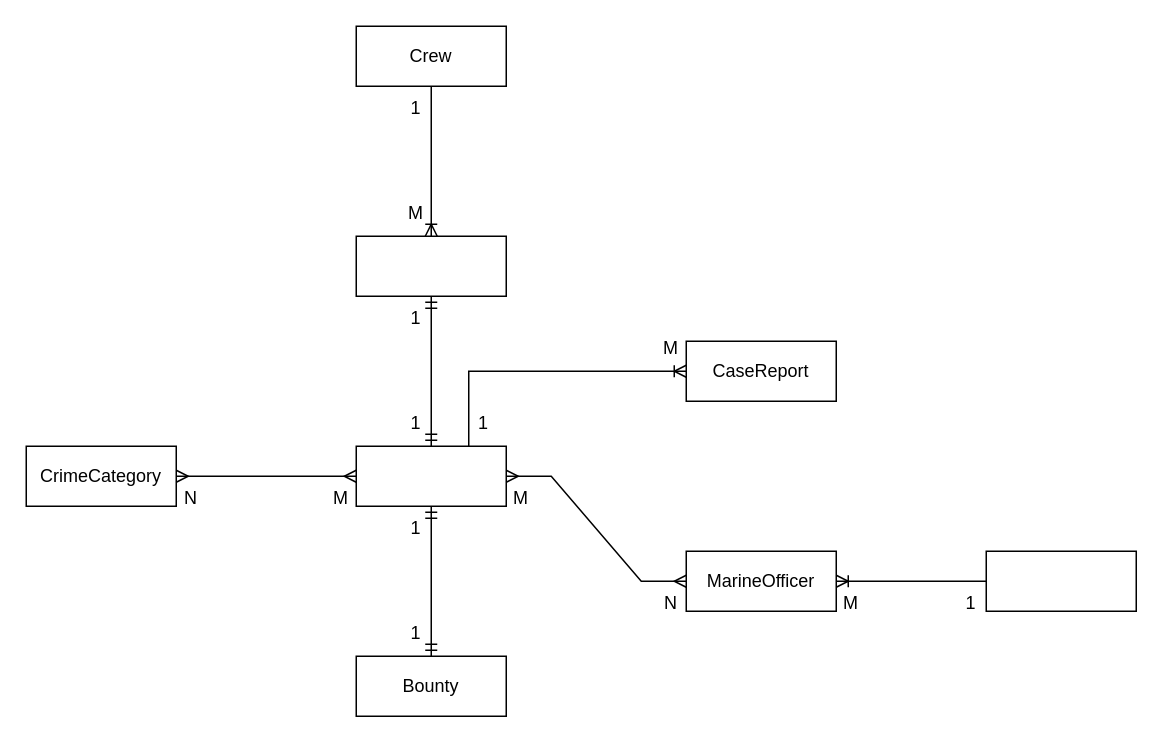
The diagram is 1163 pixels wide and 743 high, and some of its shapes have lost their labels. Each missing label, with the centre of its shape:
"CaseFile" belongs at point 430,475.
"MarineBase" belongs at point 1060,580.
"WantedPerson" belongs at point 430,265.
